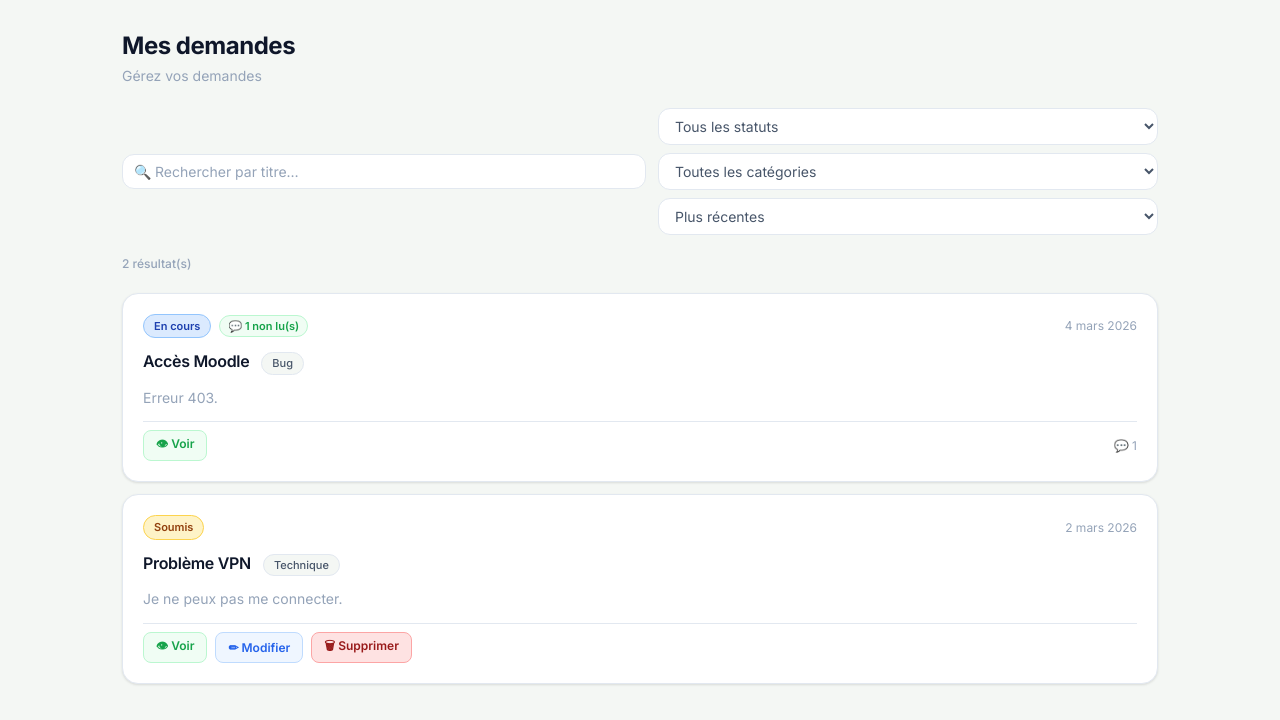
Test case: MyRequestsPage — recherche › affiche "Aucune demande" quand la recherche ne correspond à rien
The width and height of the screenshot is (1280, 720).
Expected: the heading "Problème VPN" is shown, [143,552,251,574]
In the field with placeholder "Rechercher par titre…": coordinates (384, 171) [122,154,646,188], type "xyzabc123"
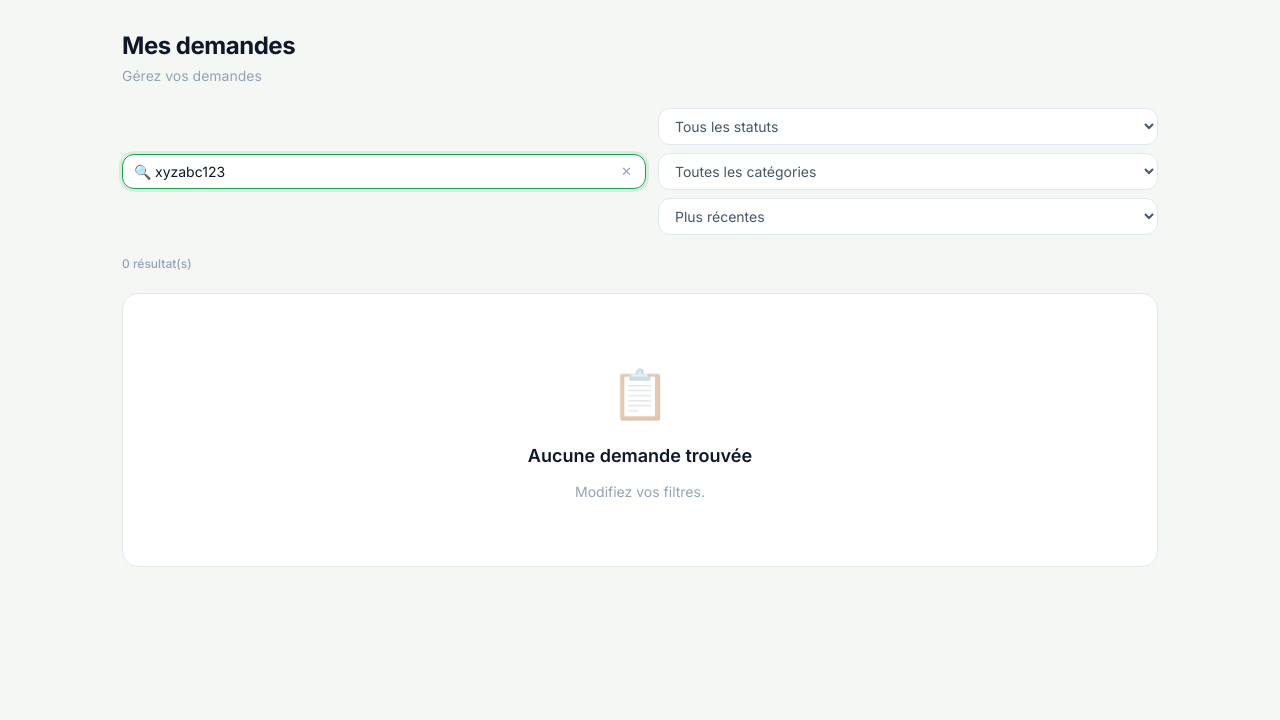
Expected: the text "Aucune demande trouvée" is shown, [528,442,752,468]
